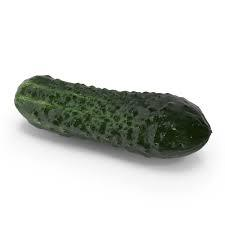non-mango: (13, 73, 212, 159)
